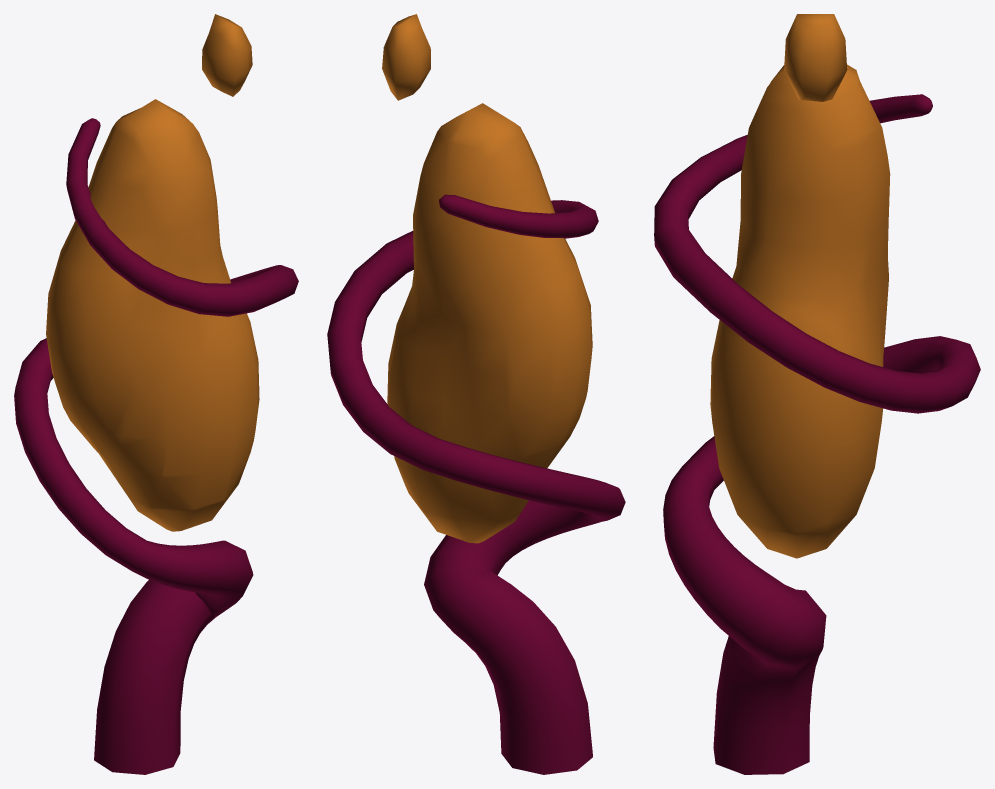
File: tree-lava.glb
3 views of the same model, side by side, from view 1: azimuth 30°, elevation 25°; view 2: azimuth 150°, elevation 25°; view 3: azimuth 270°, elevation 25° (orthographic). The views are drawn at different scales.
Parts seen in each view (by area): view 1: Tree_Lava_1; view 2: Tree_Lava_1; view 3: Tree_Lava_1.
Part boxes in pixels (bbox=[...]): Tree_Lava_1: bbox=[14, 14, 298, 774]; Tree_Lava_1: bbox=[327, 14, 625, 774]; Tree_Lava_1: bbox=[654, 14, 980, 774].
Bounding box in the file's own units: 1.2 × 3.24 × 1.2.
1 material, 1 textured.
